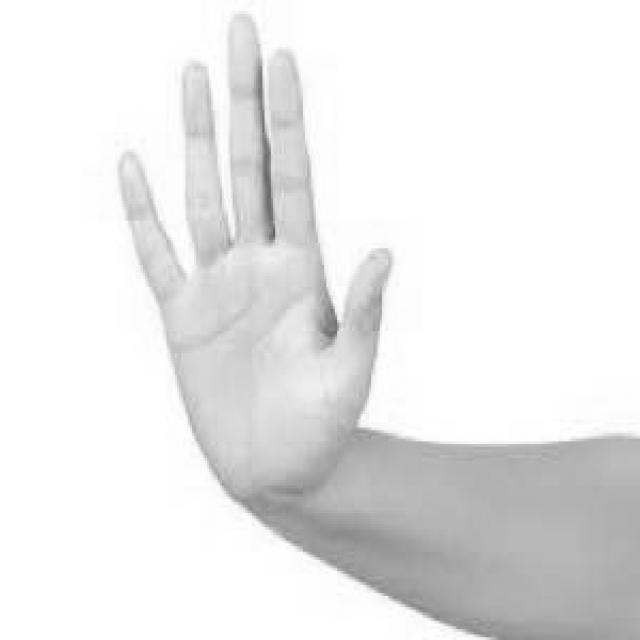stop: (109, 5, 392, 509)
